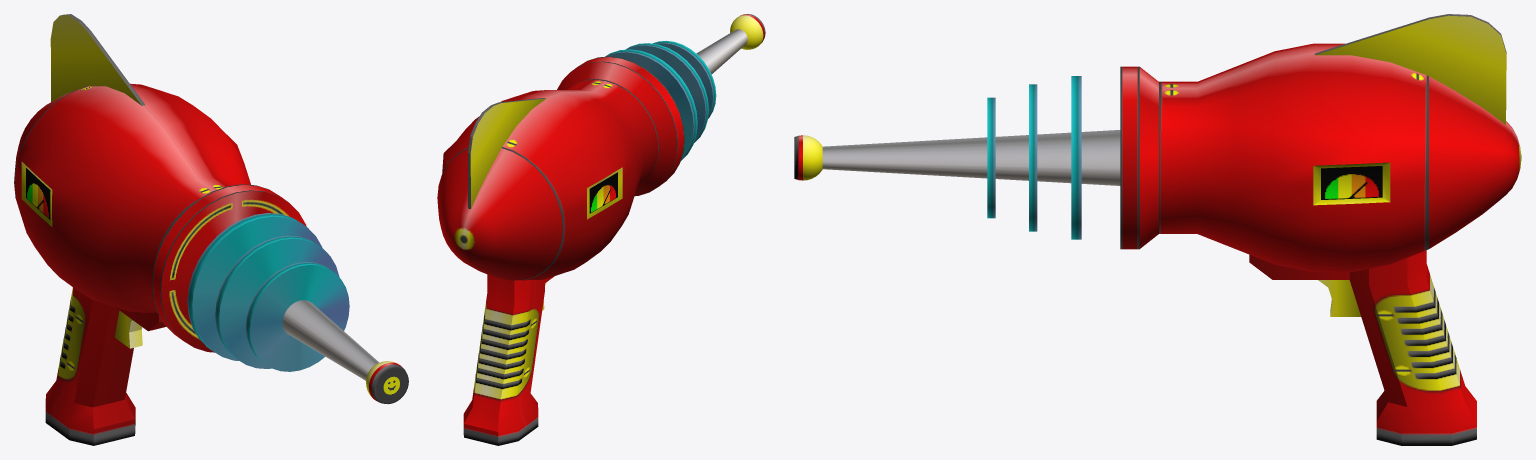
Rendered from zapper.obj.
3 renders of one model, left to right at view 1: azimuth 30°, elevation 25°; view 2: azimuth 150°, elevation 25°; view 3: azimuth 270°, elevation 25°, orthographic. The views are drawn at different scales.
Visible parts, largest first — view 1: Sphere.001_Sphere.002; view 2: Sphere.001_Sphere.002; view 3: Sphere.001_Sphere.002.
Part boxes in pixels (bbox=[...]): Sphere.001_Sphere.002: bbox=[14, 14, 408, 445]; Sphere.001_Sphere.002: bbox=[437, 14, 765, 445]; Sphere.001_Sphere.002: bbox=[794, 14, 1521, 445].
Size of the model in its own units: 0.0582 by 0.1185 by 0.1885.
